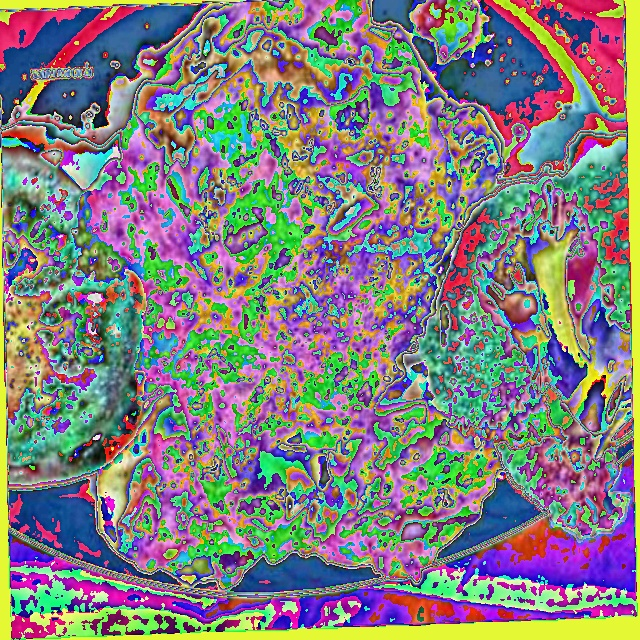background: (2, 0, 632, 589)
